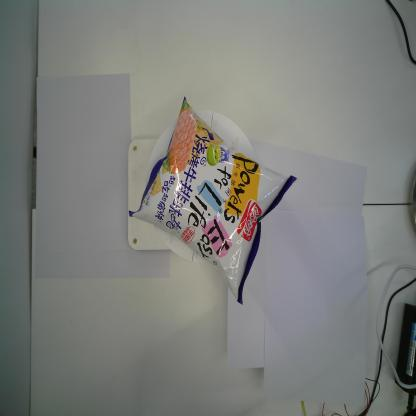Puffed Food: (128, 95, 298, 305)
